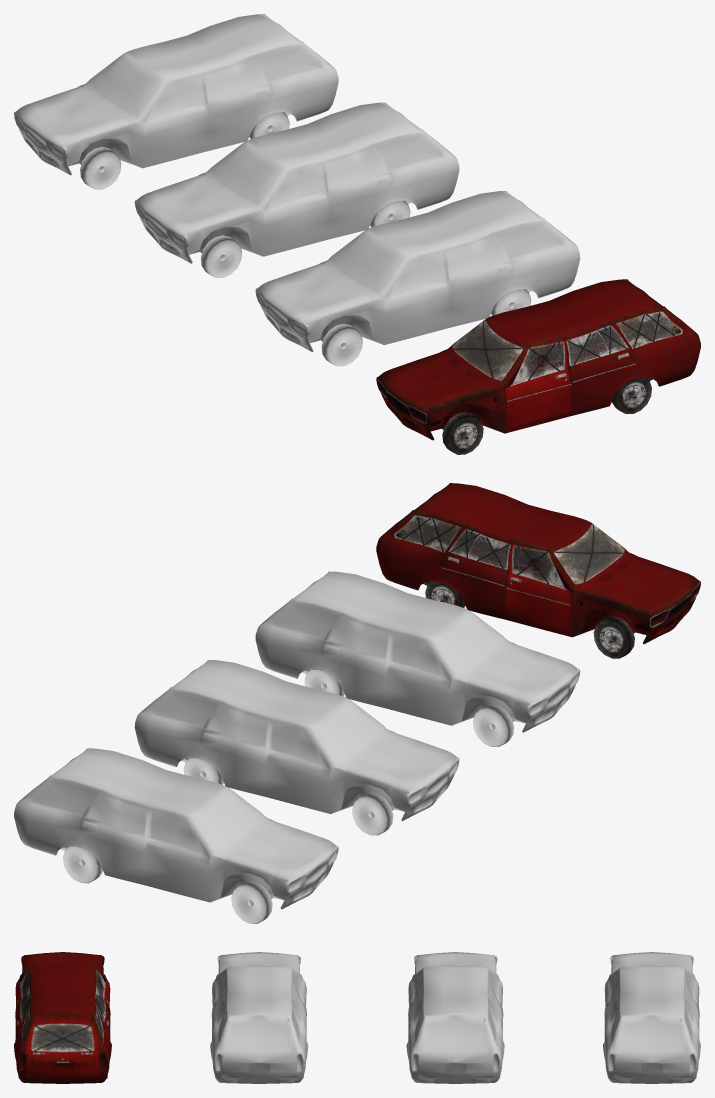
Rendered from rustcar_510bw.fbx.
The picture shows the model from 3 angles, top to bottom: view 1: azimuth 30°, elevation 25°; view 2: azimuth 150°, elevation 25°; view 3: azimuth 270°, elevation 25°; orthographic projection. The views are drawn at different scales.
Visible parts, largest first — view 1: rustcar_510bw_red, rustcar_510bw_orange, rustcar_510bw_blue, rustcar_510bw_gray; view 2: rustcar_510bw_blue, rustcar_510bw_gray, rustcar_510bw_red, rustcar_510bw_orange; view 3: rustcar_510bw_blue, rustcar_510bw_red, rustcar_510bw_gray, rustcar_510bw_orange.
Boxes of the visible parts, x1,y1,x2,y2 form: rustcar_510bw_red: (376, 279, 700, 454); rustcar_510bw_orange: (255, 191, 580, 366); rustcar_510bw_blue: (14, 14, 338, 189); rustcar_510bw_gray: (134, 102, 459, 277); rustcar_510bw_blue: (14, 748, 338, 923); rustcar_510bw_gray: (134, 660, 459, 835); rustcar_510bw_red: (376, 483, 700, 658); rustcar_510bw_orange: (255, 571, 580, 746); rustcar_510bw_blue: (603, 952, 700, 1083); rustcar_510bw_red: (14, 952, 111, 1083); rustcar_510bw_gray: (406, 952, 504, 1083); rustcar_510bw_orange: (210, 952, 308, 1083).
Size of the model in its own units: 403 by 1050 by 131.
